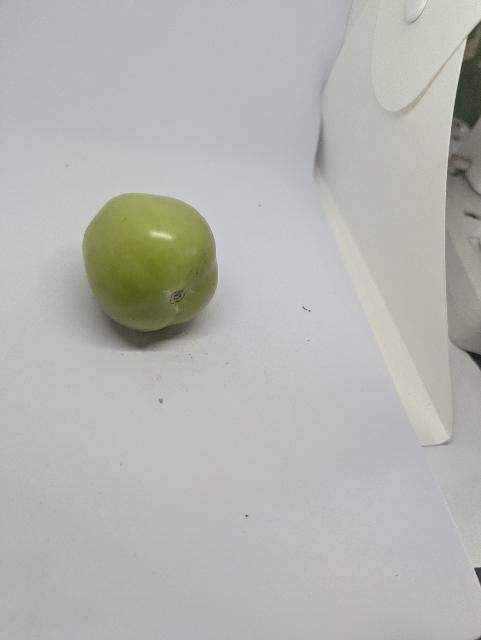green: (66, 180, 227, 343)
